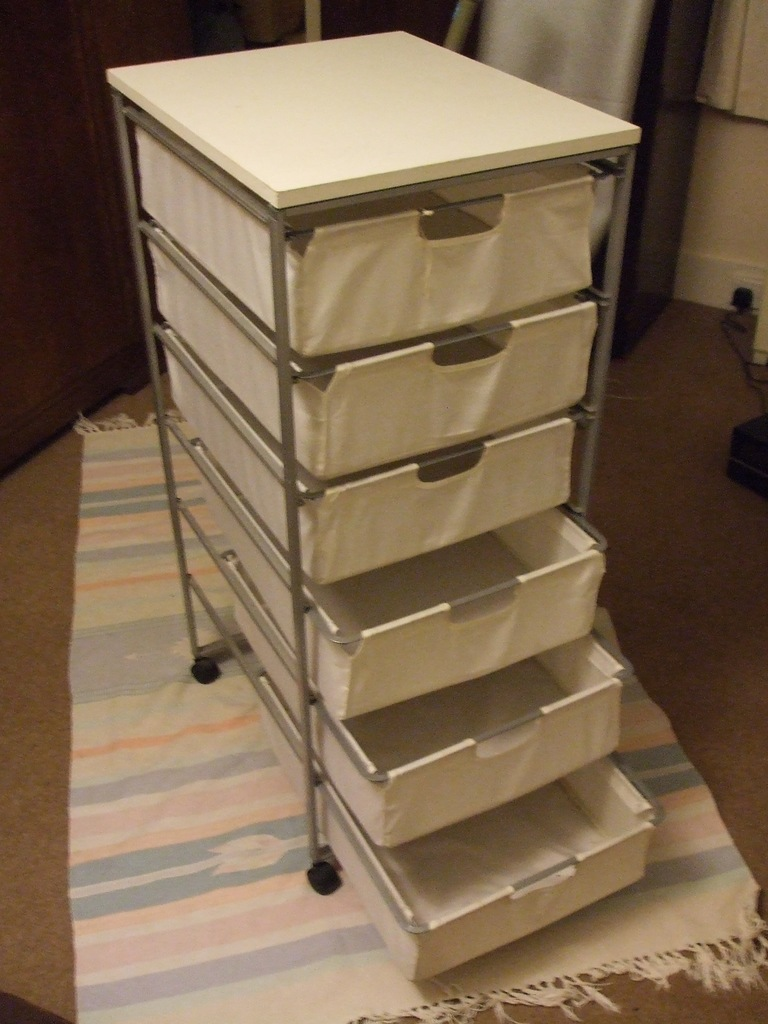cabinet door: (302, 213, 587, 294), (343, 330, 579, 422), (395, 829, 655, 912), (341, 452, 565, 529), (379, 700, 610, 771), (349, 589, 605, 650)
handle: (418, 182, 499, 212), (435, 323, 499, 357), (514, 856, 572, 893), (451, 582, 502, 622), (478, 705, 533, 741), (422, 447, 481, 479)
